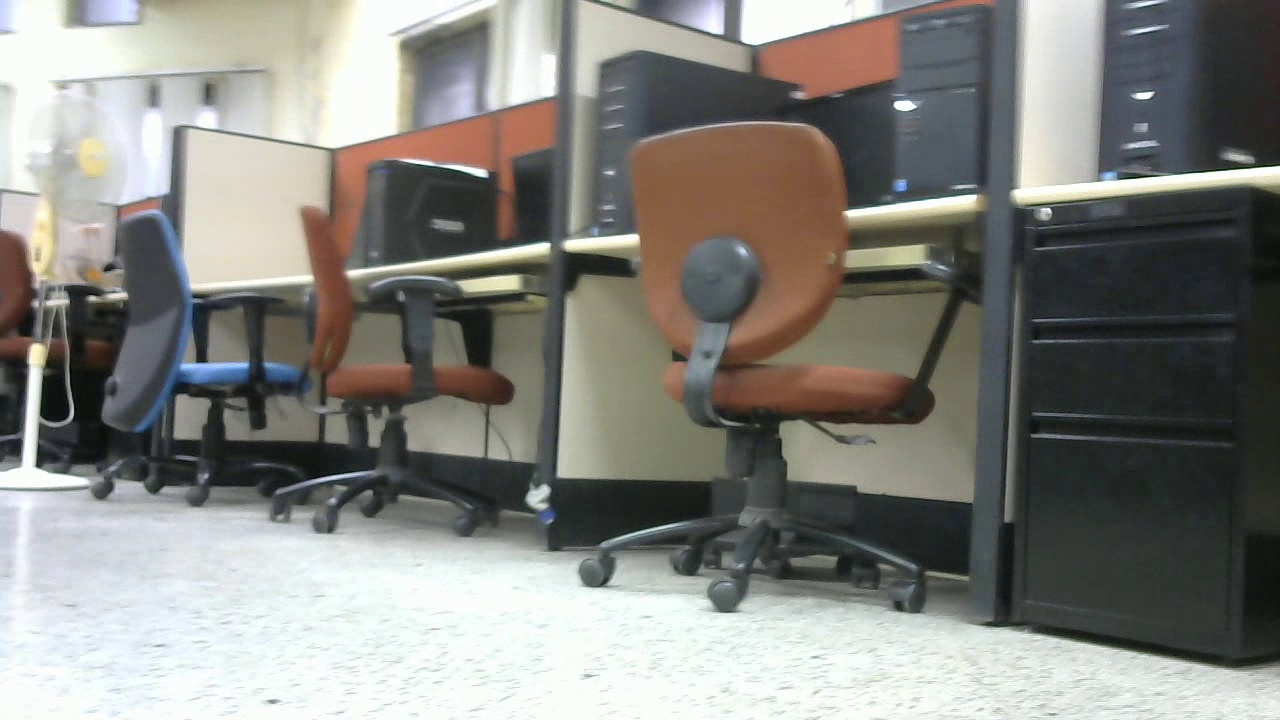chair: (572, 120, 979, 612), (265, 205, 519, 541), (92, 208, 313, 508), (1, 229, 121, 475)
